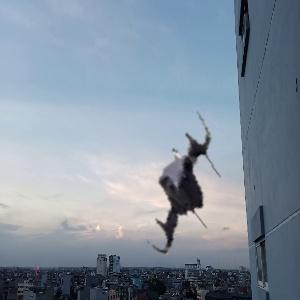drone: (120, 127, 251, 258)
